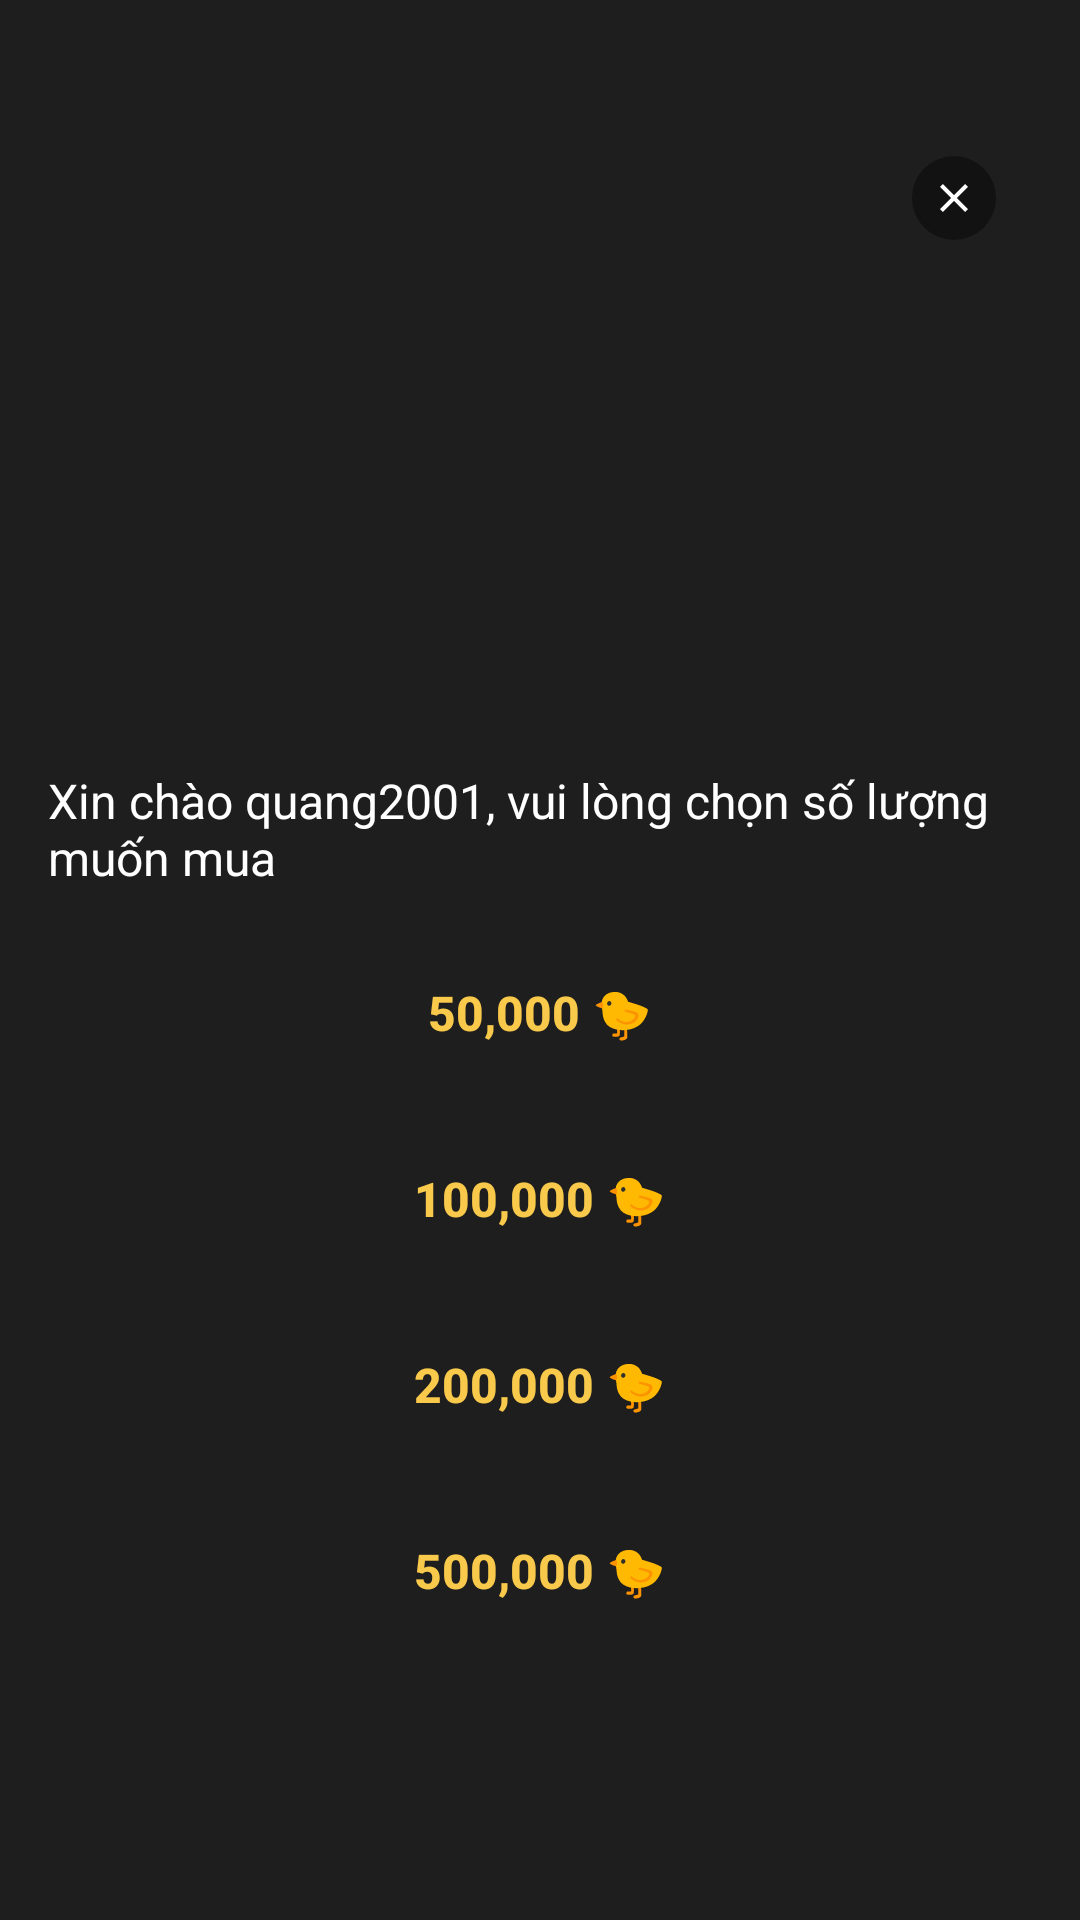

Icons on this 1080*1920 Android screen, each with the point to tap as point (x, y):
close: point (954, 198)
